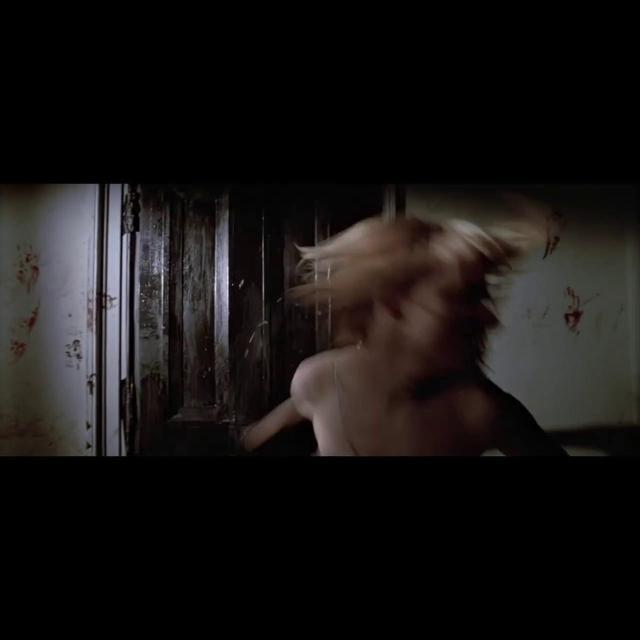blood: (0, 242, 42, 369), (544, 210, 568, 258), (566, 286, 585, 333)
